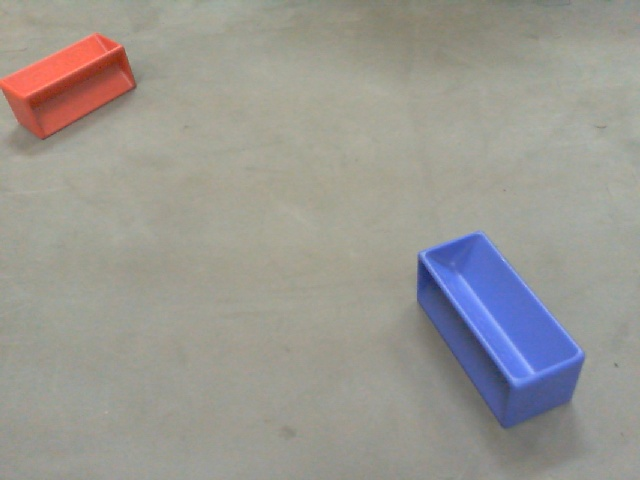BlueSample: (413, 218, 588, 442)
RedSample: (1, 31, 136, 140)
